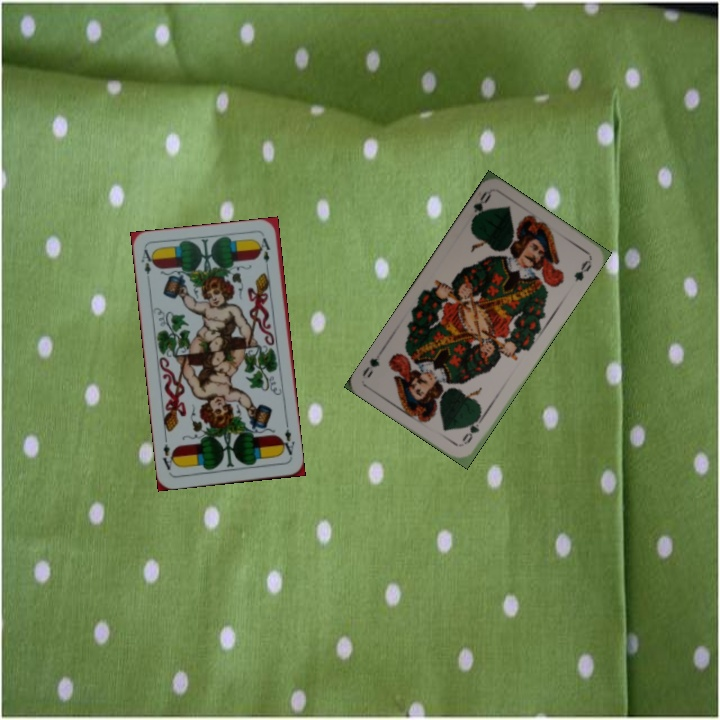EA: (277, 420, 297, 460), (137, 245, 157, 278)
GO: (458, 410, 487, 447), (467, 187, 494, 226)
